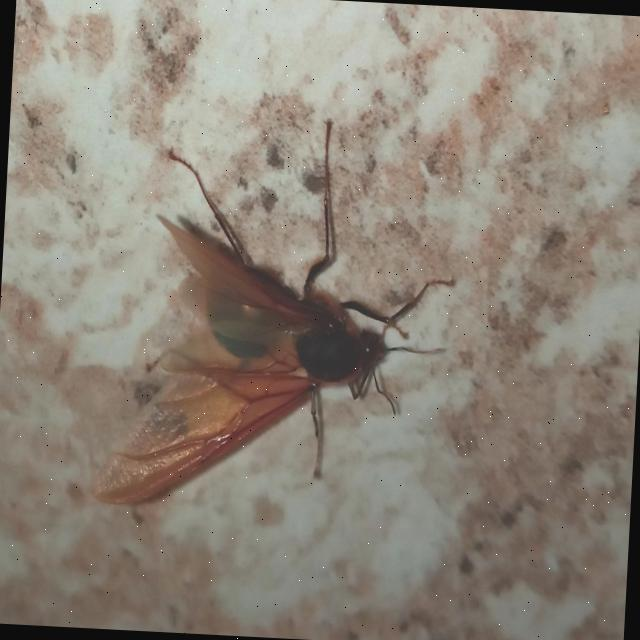Alive-Male-Alate: (92, 108, 463, 522)
